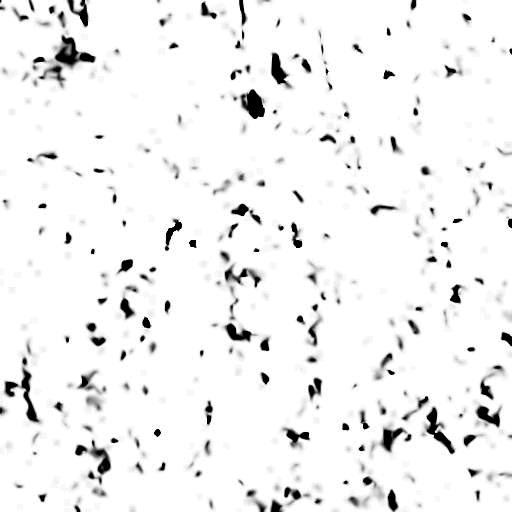egg: (248, 91, 263, 117)
